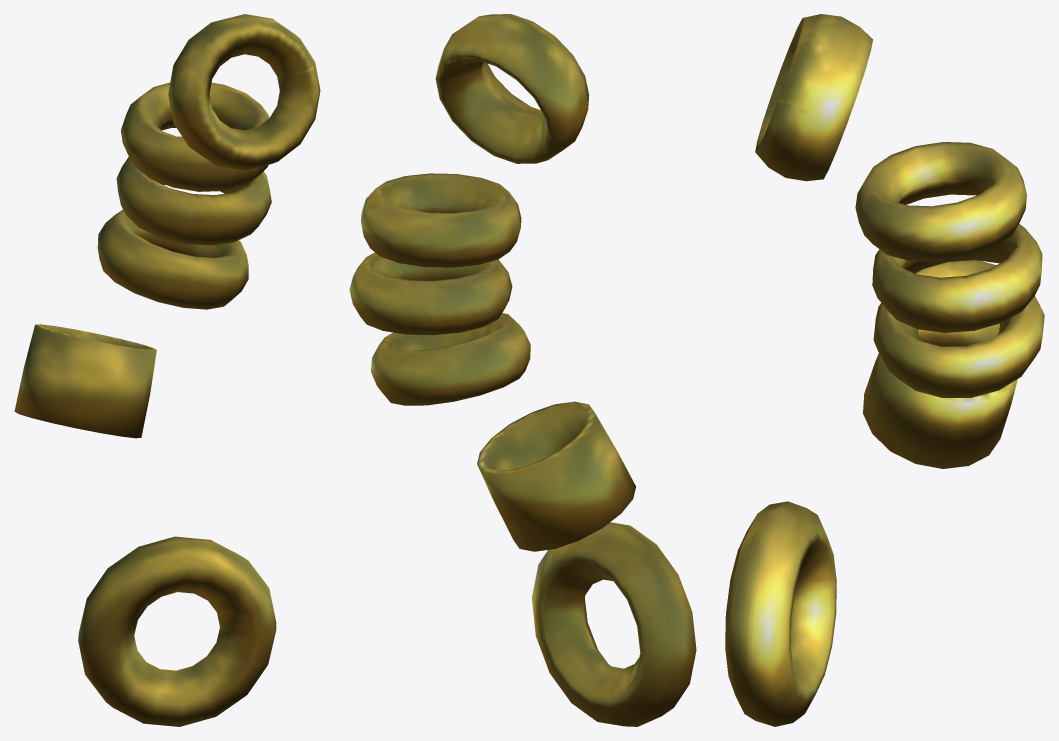
Rendered from sm_dwarf_accessories_02.gltf.
3 views of the same model, side by side, from view 1: azimuth 30°, elevation 25°; view 2: azimuth 150°, elevation 25°; view 3: azimuth 270°, elevation 25° (orthographic). The views are drawn at different scales.
Parts seen in each view (by area): view 1: sm_dwarf_accessories_02; view 2: sm_dwarf_accessories_02; view 3: sm_dwarf_accessories_02.
Boxes of the visible parts, x1,y1,x2,y2 form: sm_dwarf_accessories_02: (14,14,320,726); sm_dwarf_accessories_02: (349,14,696,726); sm_dwarf_accessories_02: (725,14,1044,726).
Bounding box in the file's own units: 3.93 × 10.11 × 3.96.
Materials: 1 (1 with a texture image).
